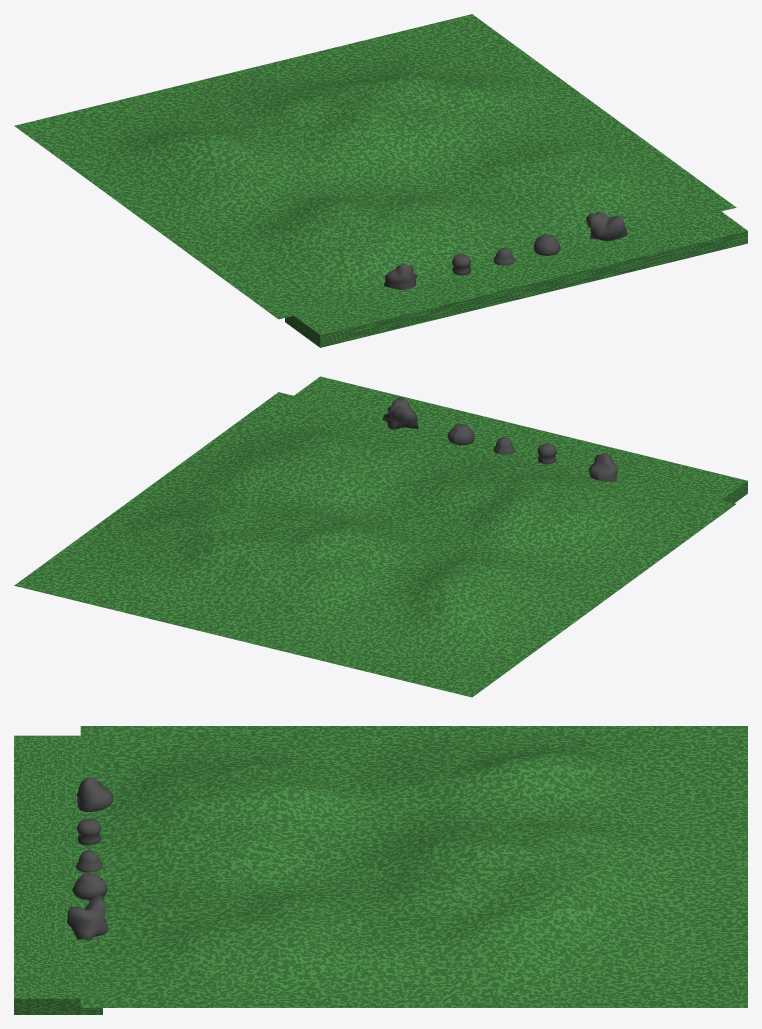
File: stage24.glb
3 views of the same model, one above another, from view 1: azimuth 30°, elevation 25°; view 2: azimuth 150°, elevation 25°; view 3: azimuth 270°, elevation 25° (orthographic). The views are drawn at different scales.
Parts seen in each view (by area): view 1: Landscape, Ground, Landscape.005, Landscape.004; view 2: Landscape, Ground, Landscape.005, Landscape.004; view 3: Landscape, Ground, Landscape.005, Landscape.004, Landscape.003, Landscape.002.
Part boxes in pixels (<box>): Landscape: <box>14,14,736,319</box>; Ground: <box>285,205,747,347</box>; Landscape.005: <box>586,211,626,241</box>; Landscape.004: <box>384,263,417,289</box>; Landscape: <box>14,392,736,697</box>; Ground: <box>286,376,747,506</box>; Landscape.005: <box>382,397,418,429</box>; Landscape.004: <box>588,452,617,481</box>; Landscape: <box>80,726,747,1007</box>; Ground: <box>14,735,102,1014</box>; Landscape.005: <box>67,895,108,940</box>; Landscape.004: <box>76,777,113,812</box>; Landscape.003: <box>72,873,107,899</box>; Landscape.002: <box>76,818,100,845</box>.
Size of what is drawn, in the model's own units: 75 by 6.49 by 82.5.
Materials: 2 (1 with a texture image).
